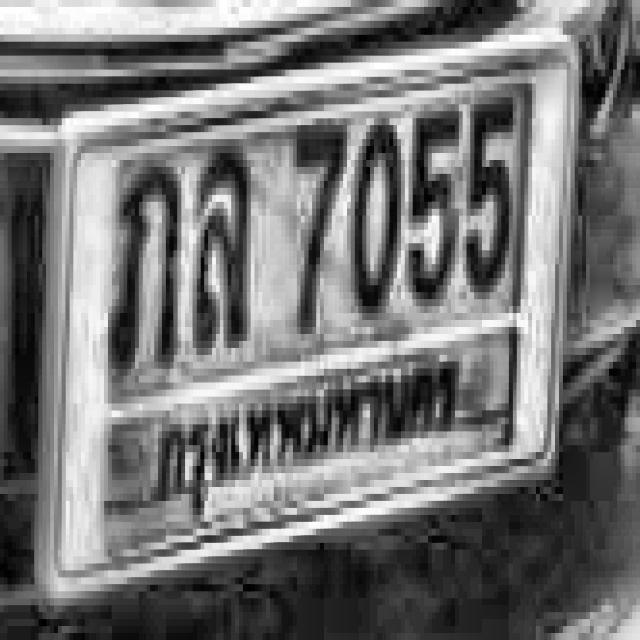license-plate: (33, 28, 575, 608)
